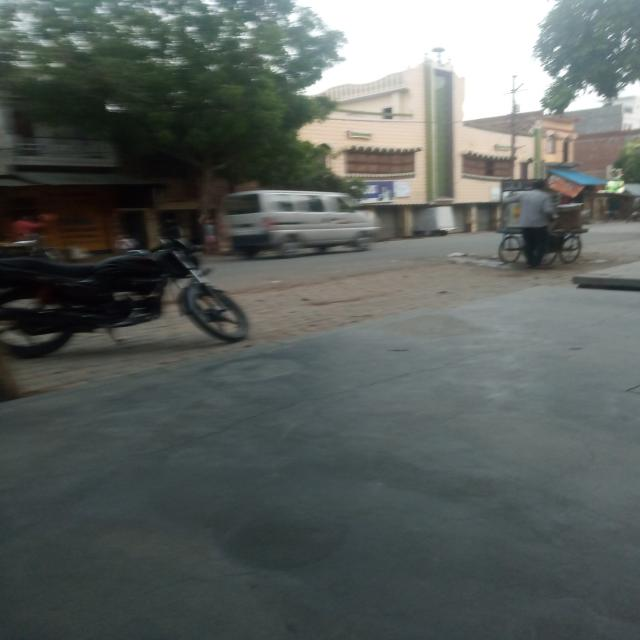Two Wheeler: (0, 234, 249, 358)
